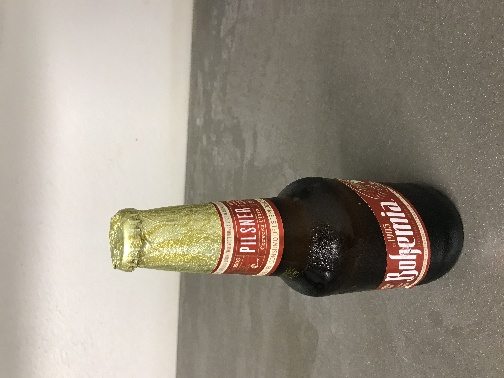BPB: (77, 128, 337, 214)
